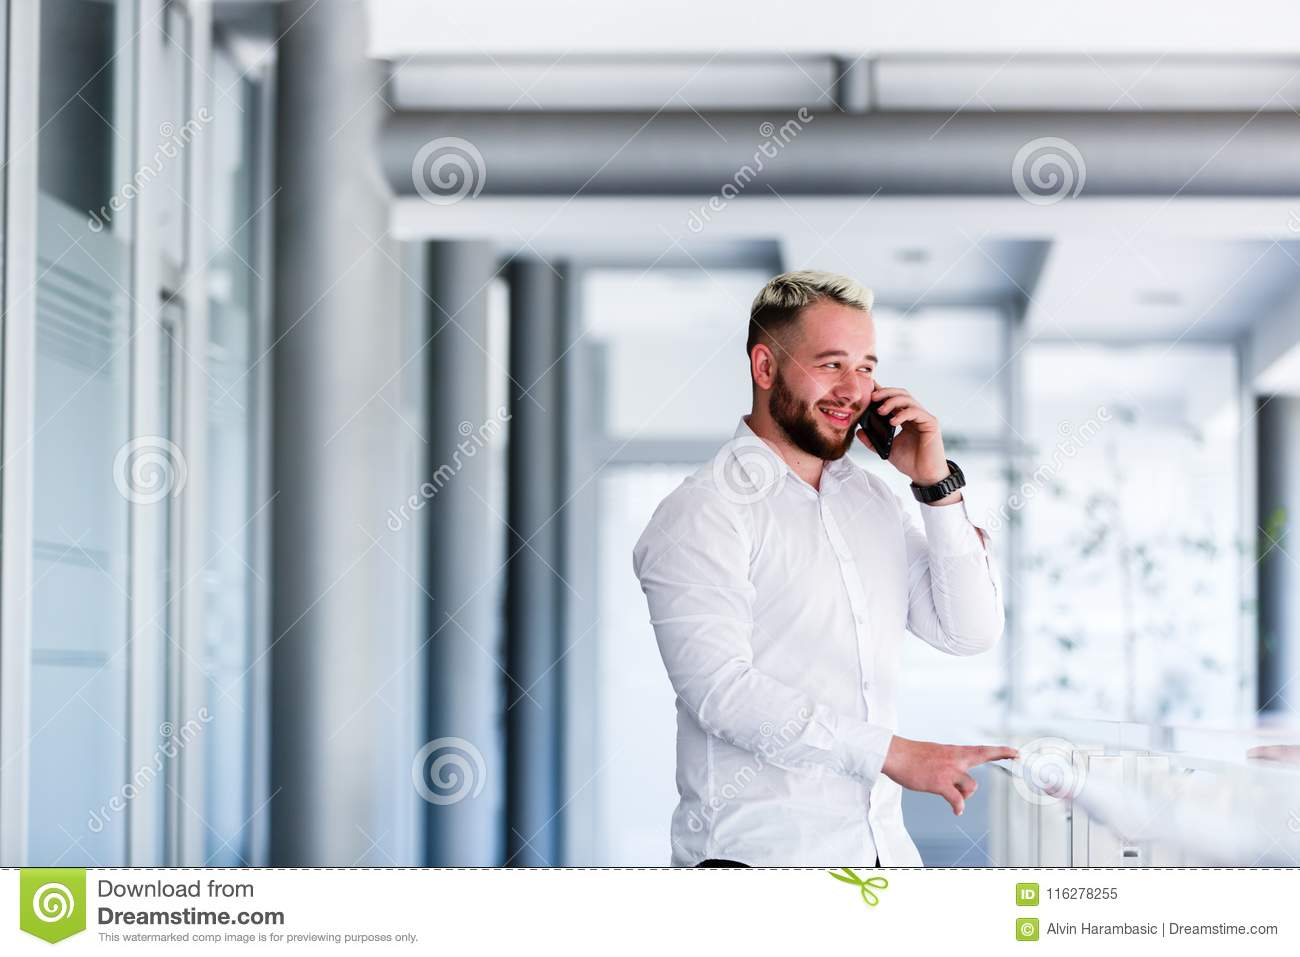phone: (861, 385, 898, 462)
talk: (806, 344, 944, 482)
